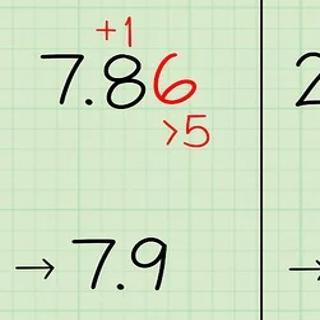.: (81, 91, 98, 115), (113, 277, 133, 295)
1: (120, 9, 143, 49)
5: (179, 109, 216, 158)
6: (147, 44, 205, 111)
7: (64, 229, 115, 295), (36, 47, 86, 111)
8: (98, 49, 149, 112)
9: (127, 231, 175, 294)
